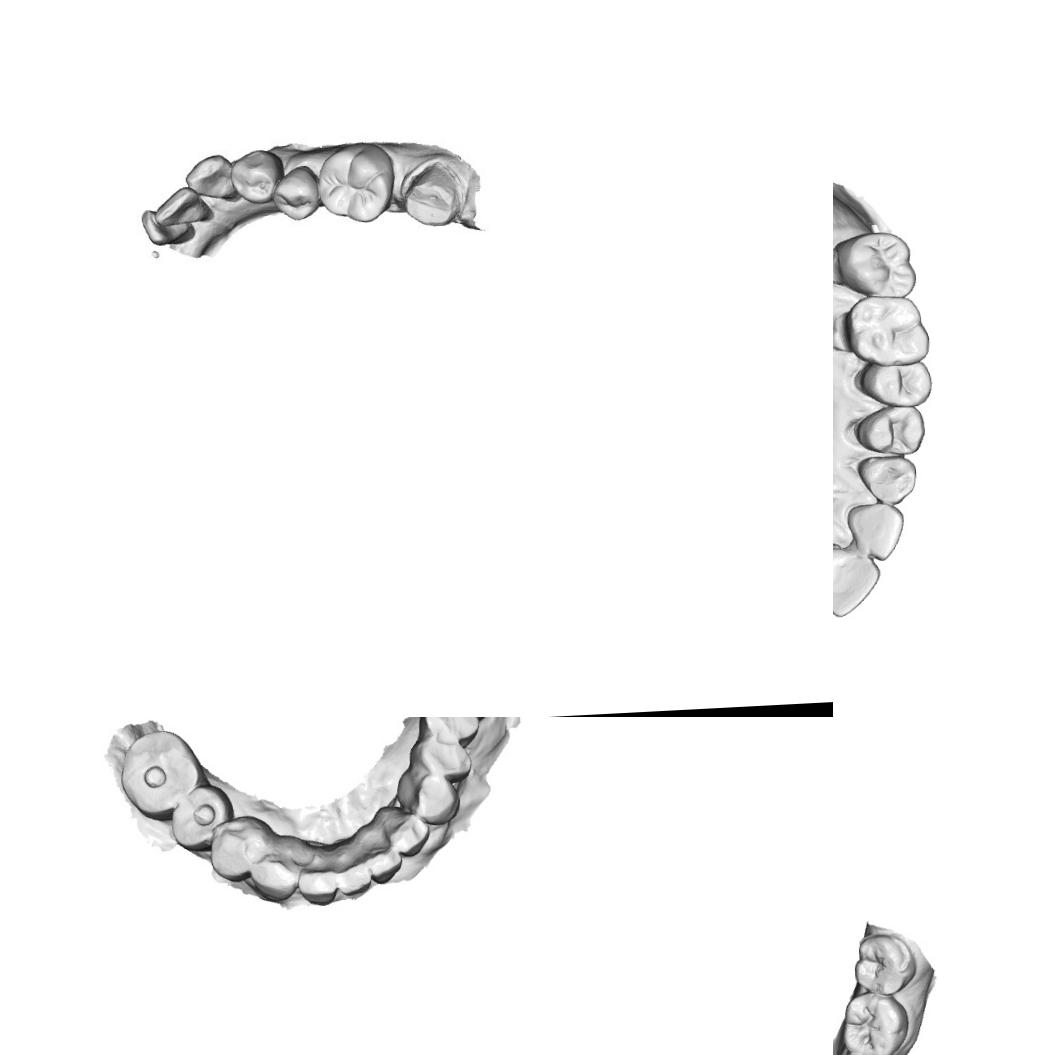canine: (849, 450, 922, 508), (246, 843, 303, 902), (184, 149, 236, 210), (412, 773, 458, 825)
crown: (399, 158, 464, 231)
incisor: (840, 499, 908, 564), (833, 542, 883, 619), (152, 182, 209, 228), (140, 205, 192, 248), (296, 859, 339, 907), (386, 812, 430, 858), (335, 856, 375, 901), (364, 840, 404, 884)
molar: (114, 727, 202, 820), (313, 138, 397, 227), (839, 292, 932, 370), (833, 226, 918, 301), (838, 988, 909, 1055), (852, 932, 916, 996)
premolar: (166, 782, 234, 854), (850, 402, 930, 458), (853, 356, 934, 411), (208, 814, 264, 883), (226, 145, 283, 205), (271, 162, 319, 221), (416, 735, 470, 782), (418, 717, 483, 746)
